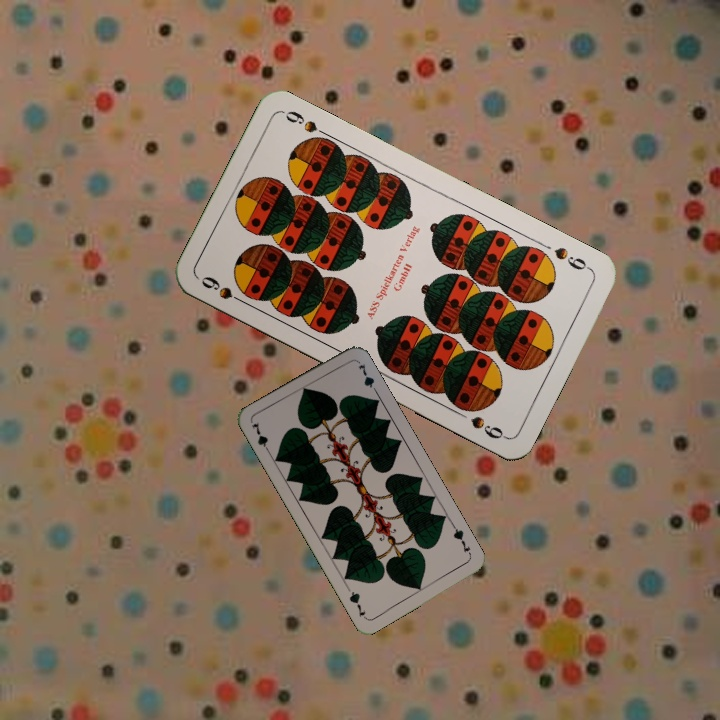G7: (248, 418, 273, 457), (449, 521, 474, 559)
S9: (197, 272, 251, 308), (550, 243, 594, 274)
